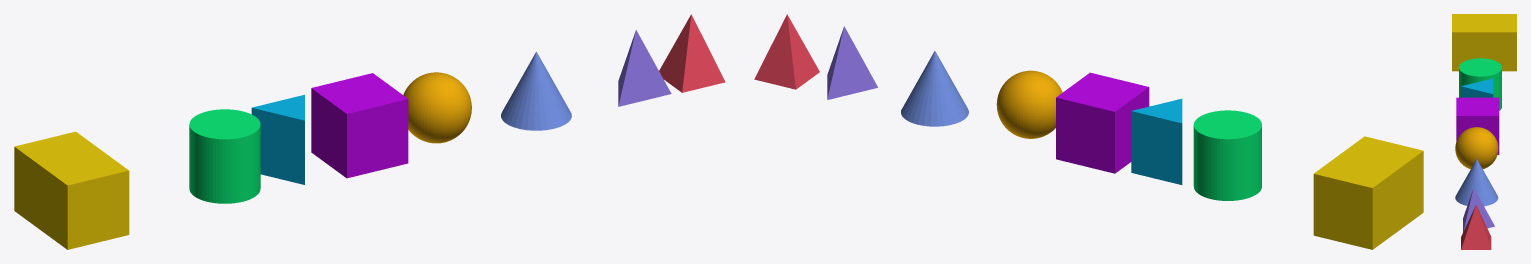
The picture shows the model from 3 angles, left to right: view 1: azimuth 30°, elevation 25°; view 2: azimuth 150°, elevation 25°; view 3: azimuth 270°, elevation 25°; orthographic projection. The views are drawn at different scales.
Parts seen in each view (by area): view 1: Cube.001, Cube, Cylinder.002, Sphere, Cylinder.001, Cone, Cone.002, Cone.001; view 2: Cube.001, Cube, Cylinder.002, Cylinder.001, Sphere, Cone, Cone.002, Cone.001; view 3: Cube.001, Cube, Sphere, Cylinder.002, Cone, Cone.002, Cylinder.001, Cone.001.
Part boxes in pixels (box(x1,y1,x2,y2)): Cube.001: box(14, 131, 129, 249); Cube: box(311, 73, 408, 178); Cylinder.002: box(189, 109, 260, 203); Sphere: box(403, 72, 471, 143); Cylinder.001: box(251, 94, 304, 184); Cone: box(501, 51, 571, 130); Cone.002: box(659, 14, 725, 92); Cone.001: box(618, 30, 671, 106); Cube.001: box(1313, 136, 1423, 249); Cube: box(1056, 72, 1149, 173); Cylinder.002: box(1193, 110, 1261, 200); Cylinder.001: box(1131, 98, 1182, 184); Sphere: box(996, 70, 1062, 138); Cone: box(901, 51, 968, 126); Cone.002: box(754, 14, 819, 89); Cone.001: box(827, 26, 877, 99); Cube.001: box(1452, 14, 1516, 71); Cube: box(1456, 97, 1499, 154); Sphere: box(1455, 127, 1498, 169); Cylinder.002: box(1459, 58, 1501, 110); Cone: box(1455, 159, 1498, 206); Cone.002: box(1461, 205, 1491, 249); Cylinder.001: box(1461, 78, 1493, 97); Cone.001: box(1463, 188, 1494, 232).
Size of the model in its own units: 21.62 by 2 by 3.
